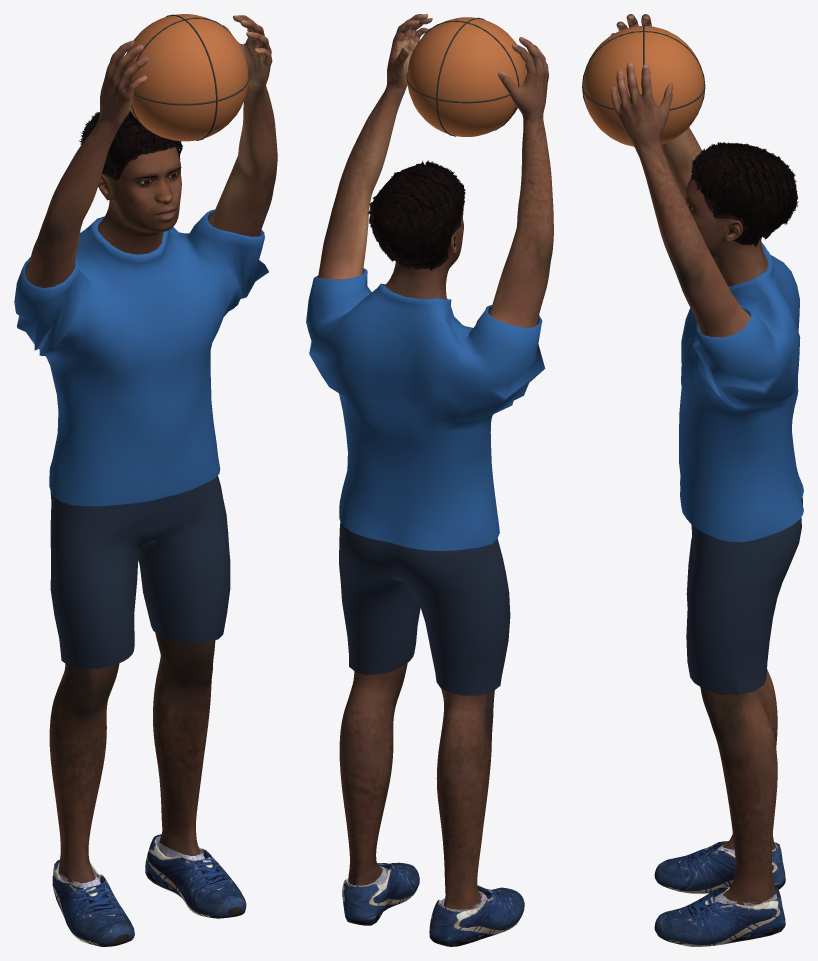
The model's file is football-raised-ball-figure-static.glb.
3 views of the same model, side by side, from view 1: azimuth 30°, elevation 25°; view 2: azimuth 150°, elevation 25°; view 3: azimuth 270°, elevation 25° (orthographic). The views are drawn at different scales.
Visible parts, largest first — view 1: male_casualsuit04, Jordan | anatomical body, Sports ball, shoes06, afro01; view 2: male_casualsuit04, Jordan | anatomical body, Sports ball, afro01, shoes06; view 3: male_casualsuit04, Jordan | anatomical body, shoes06, Sports ball, afro01.
Part boxes in pixels (<box>): male_casualsuit04: <box>14,209,268,668</box>; Jordan | anatomical body: <box>25,15,277,882</box>; Sports ball: <box>126,14,248,141</box>; shoes06: <box>52,834,246,946</box>; afro01: <box>79,110,182,200</box>; male_casualsuit04: <box>306,268,545,695</box>; Jordan | anatomical body: <box>318,14,553,909</box>; Sports ball: <box>407,17,526,136</box>; afro01: <box>367,160,465,270</box>; shoes06: <box>342,862,524,946</box>; male_casualsuit04: <box>679,242,803,694</box>; Jordan | anatomical body: <box>610,14,777,904</box>; shoes06: <box>654,841,785,946</box>; Sports ball: <box>583,26,704,146</box>; afro01: <box>691,142,798,246</box>.
Size of the model in its own units: 0.5868 by 2.13 by 0.4861.
12 materials, 11 textured.
